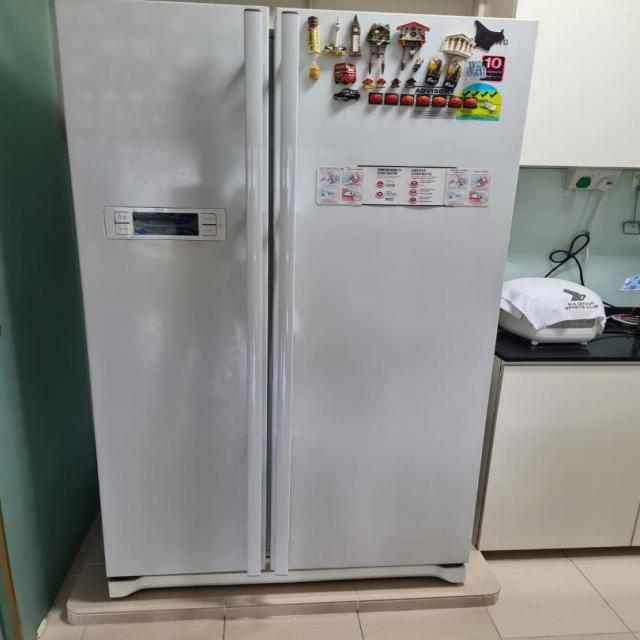refrigerator: (51, 0, 539, 591)
